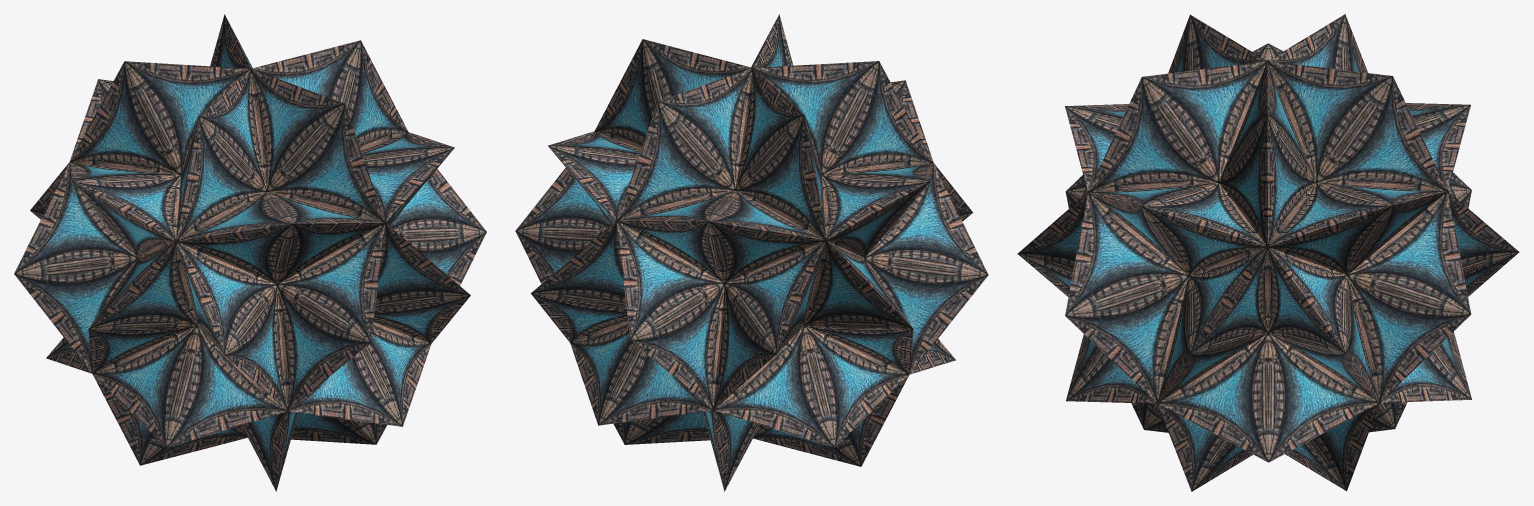
File: Mobius120a_2.obj
The picture shows the model from 3 angles, left to right: view 1: azimuth 30°, elevation 25°; view 2: azimuth 150°, elevation 25°; view 3: azimuth 270°, elevation 25°; orthographic projection. The views are drawn at different scales.
Bounding box in the file's own units: 3.62 × 3.25 × 3.8.
Materials: 1 (1 with a texture image).
